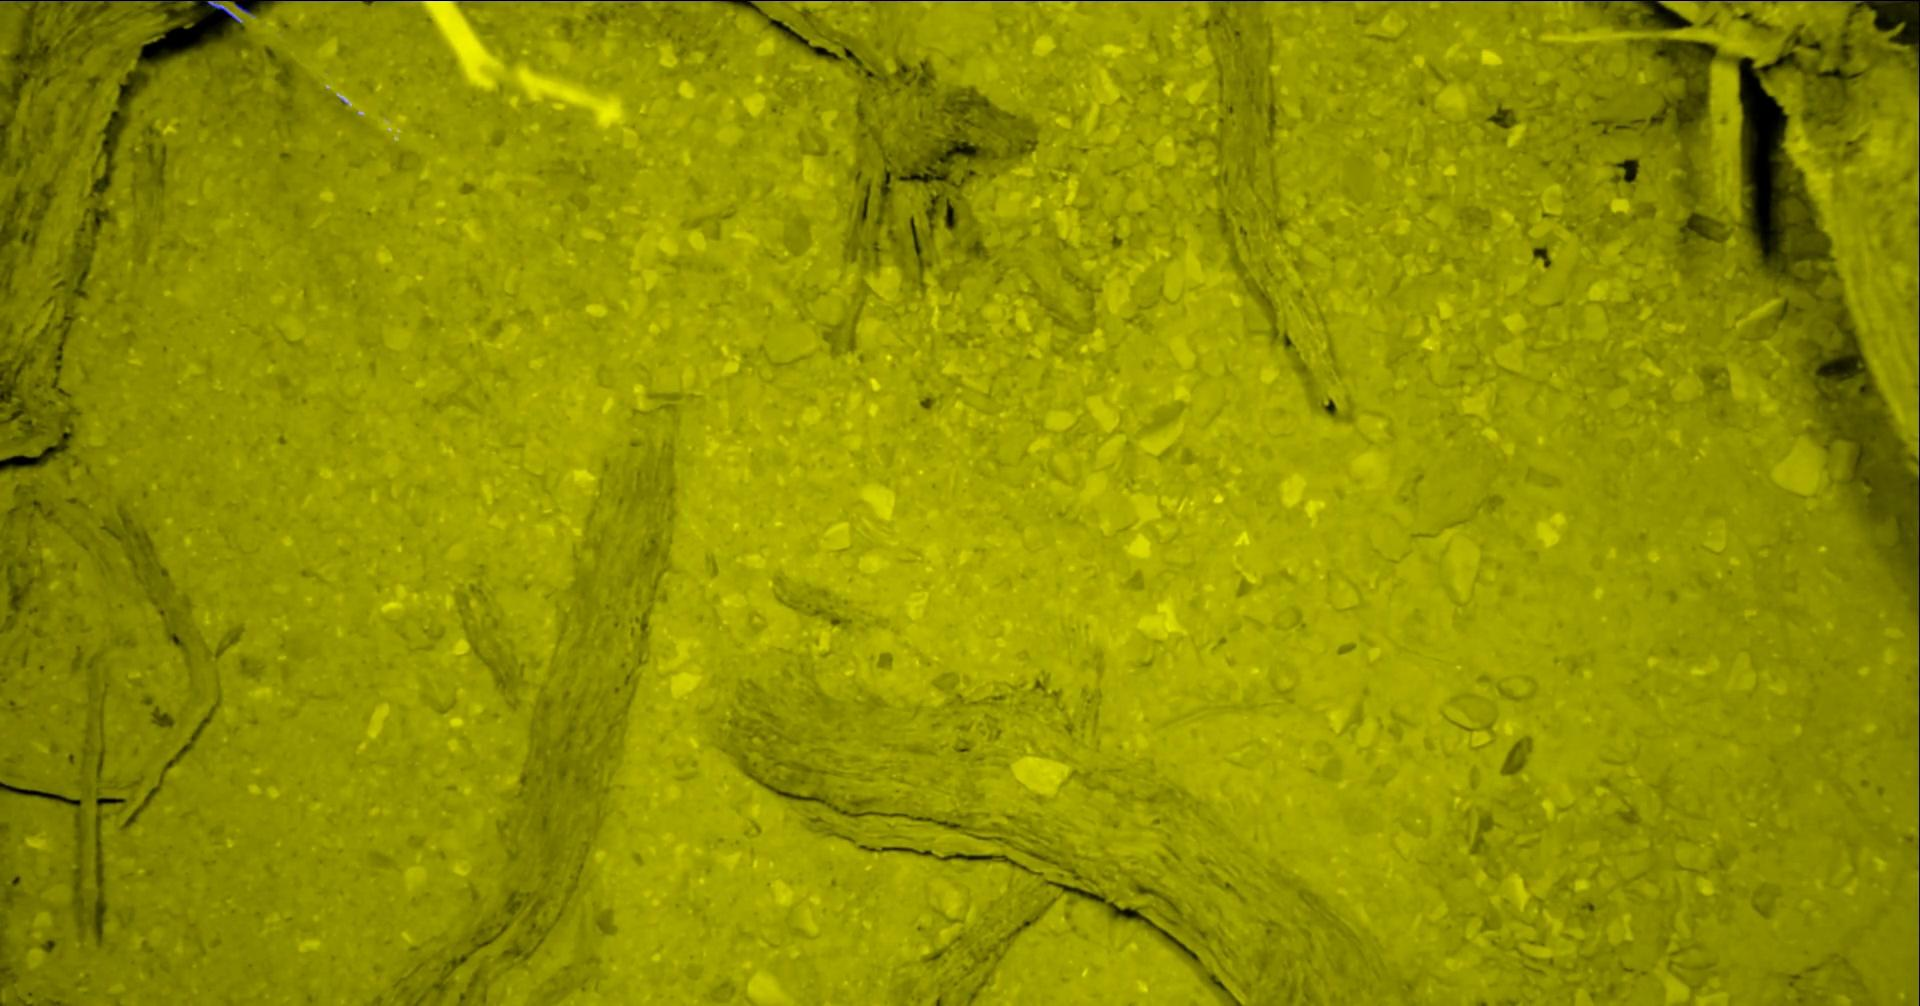ant: (204, 0, 241, 23), (8, 0, 133, 1), (141, 0, 194, 1)
